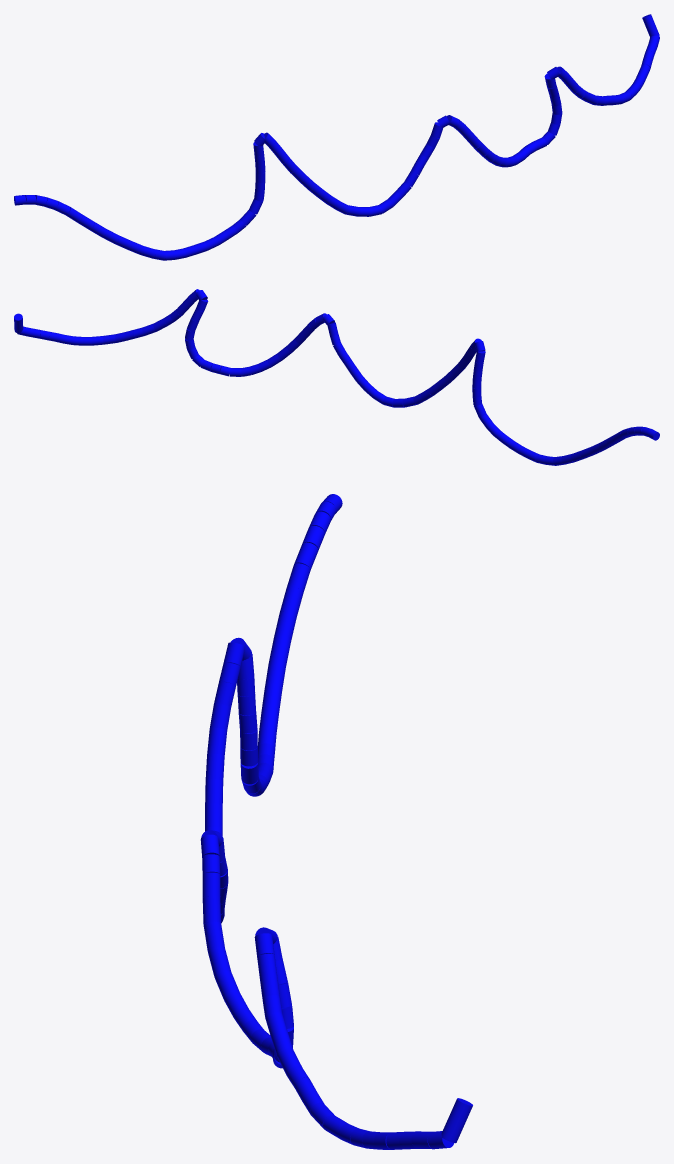
3 views of the same model, one above another, from view 1: azimuth 30°, elevation 25°; view 2: azimuth 150°, elevation 25°; view 3: azimuth 270°, elevation 25° (orthographic). The views are drawn at different scales.
Size of the model in its own units: 0.8023 by 0.1268 by 0.1541.
